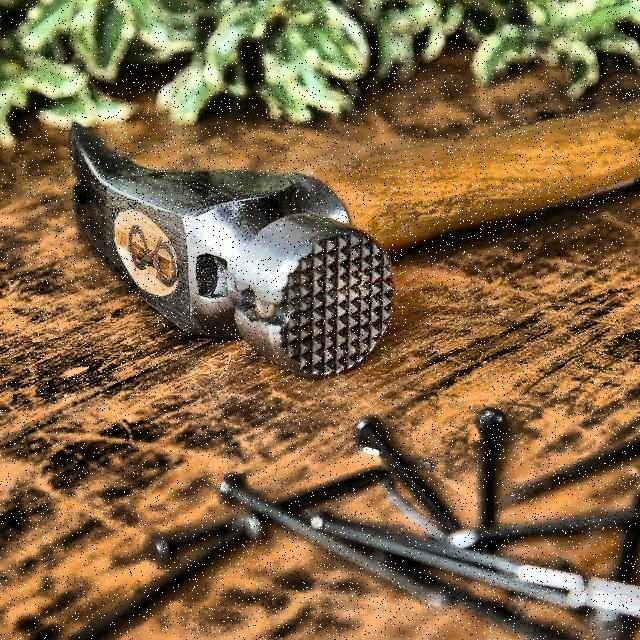hammer: (69, 95, 640, 382)
